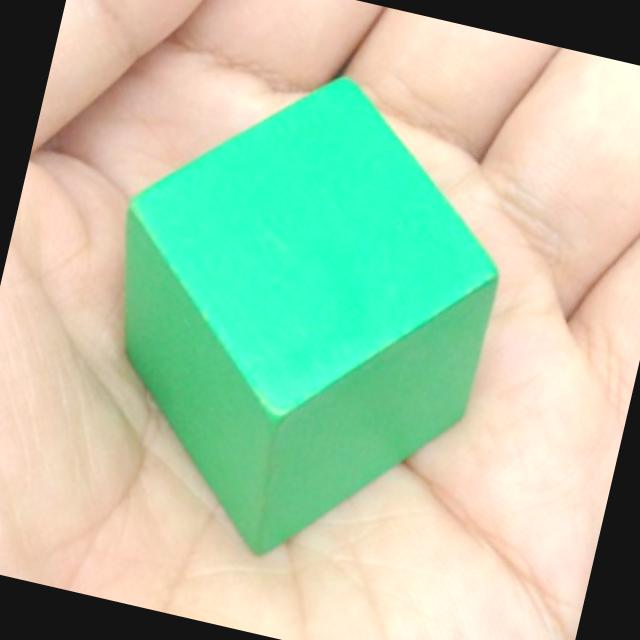green cube: (121, 77, 499, 559)
